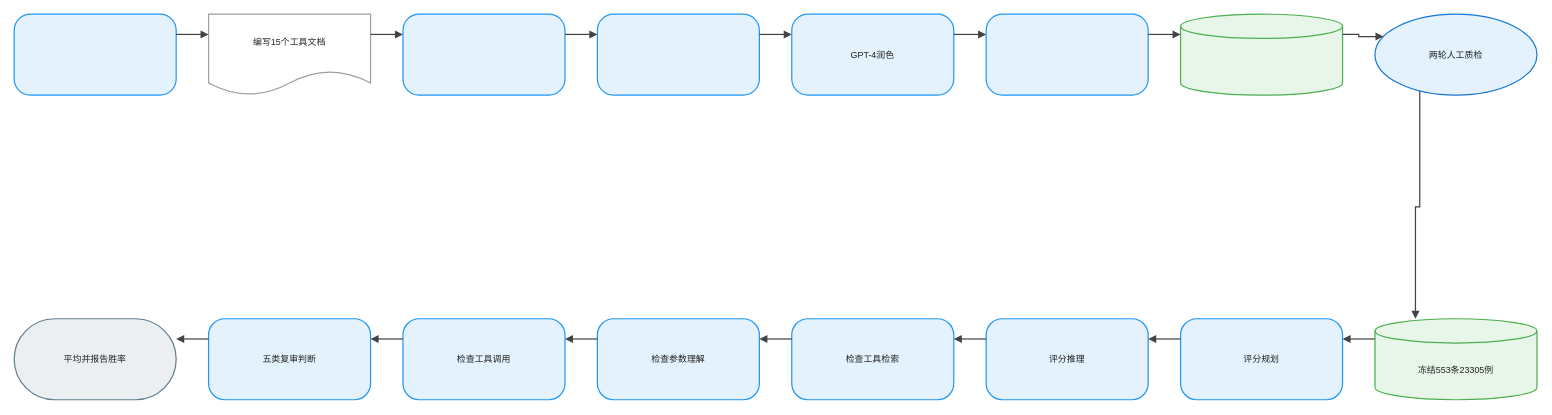
This 1552x415 diagram has some shape labels left out. The shapes that lost their labels are listed below. From the top down, each one's centre as x and y in pixels, then its label:
At (94,54): "定义6种能力".
At (483,54): "采样并打乱".
At (678,54): "GPT-3.5生成查询".
At (1066,54): "多智能体生成轨迹".
At (1261,54): "收集1500条".
